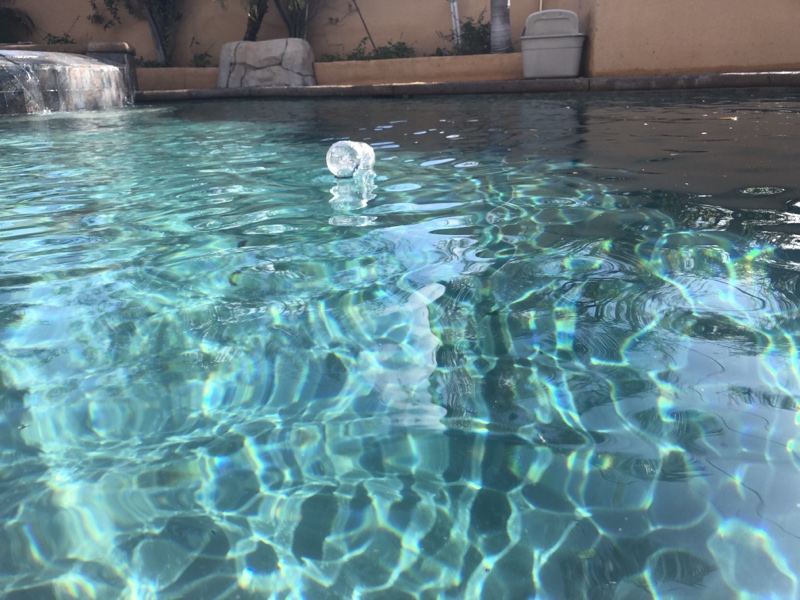Plastic Bottle: (325, 137, 378, 181)
